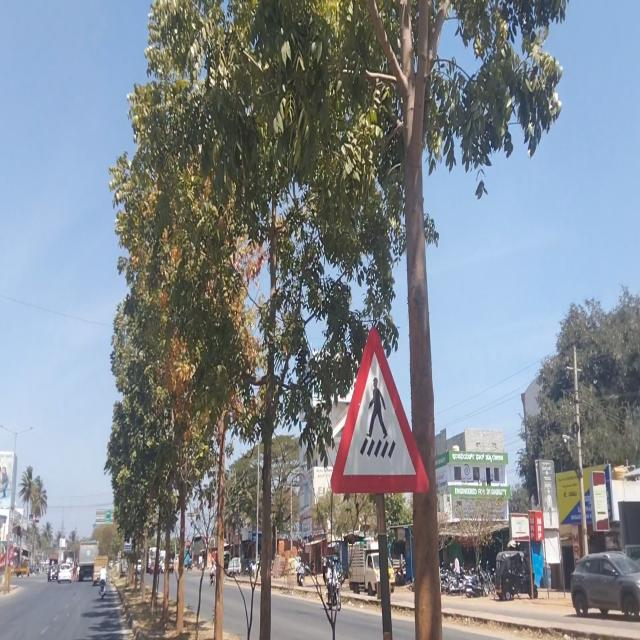bien_cam: (329, 319, 427, 495)
